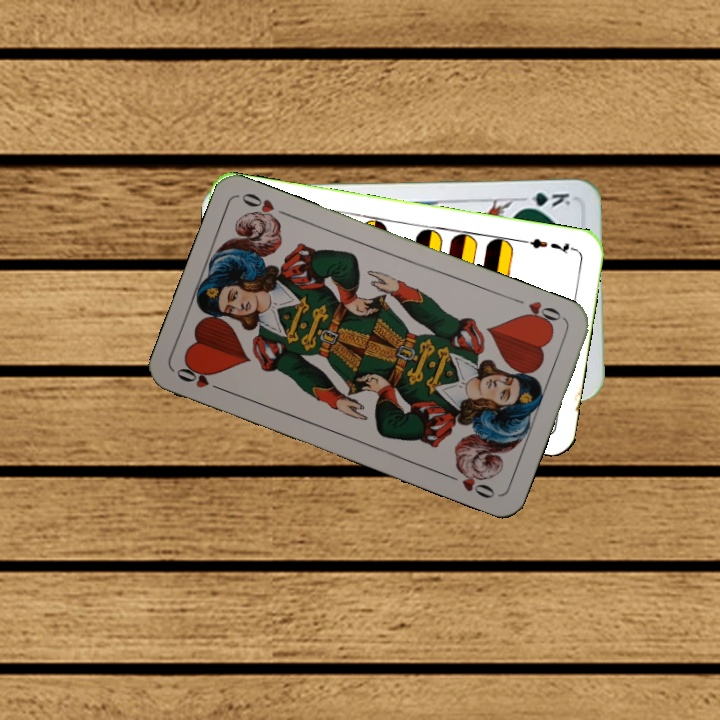E7: (519, 234, 578, 257)
GK: (516, 188, 573, 211)
HO: (509, 294, 566, 330), (172, 361, 229, 395)
